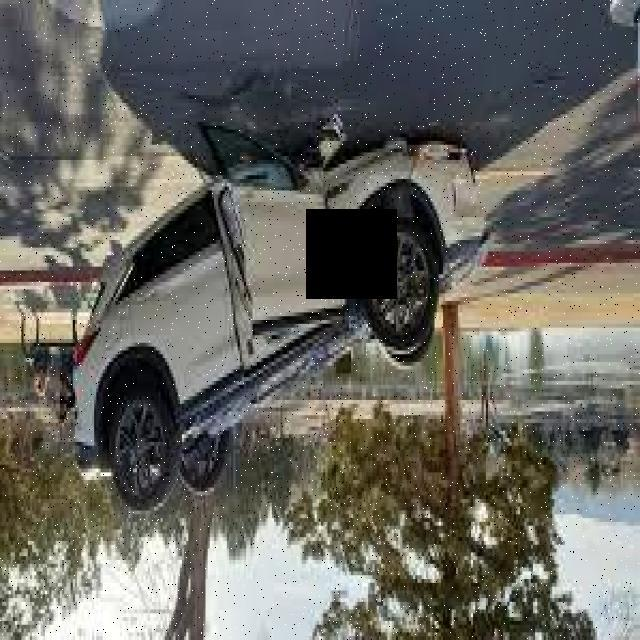severe: (71, 122, 492, 526)
